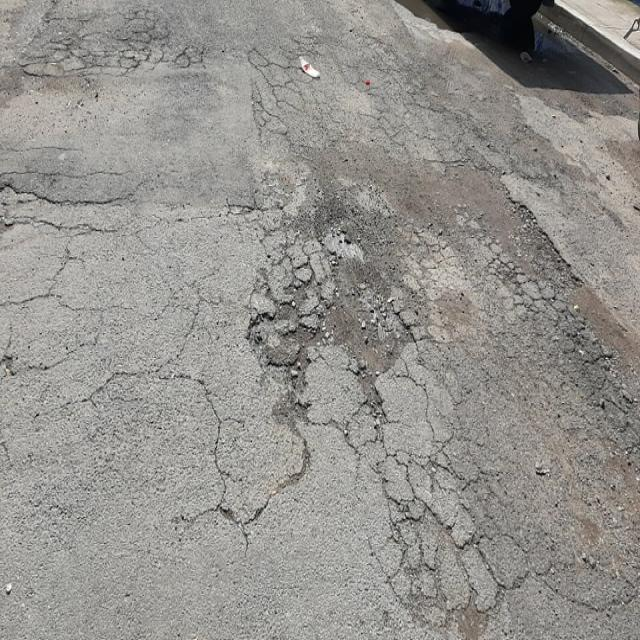Pothole: (240, 157, 440, 496)
